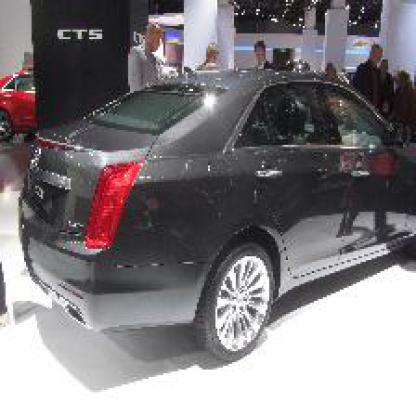not_emergency: (26, 69, 414, 334)
